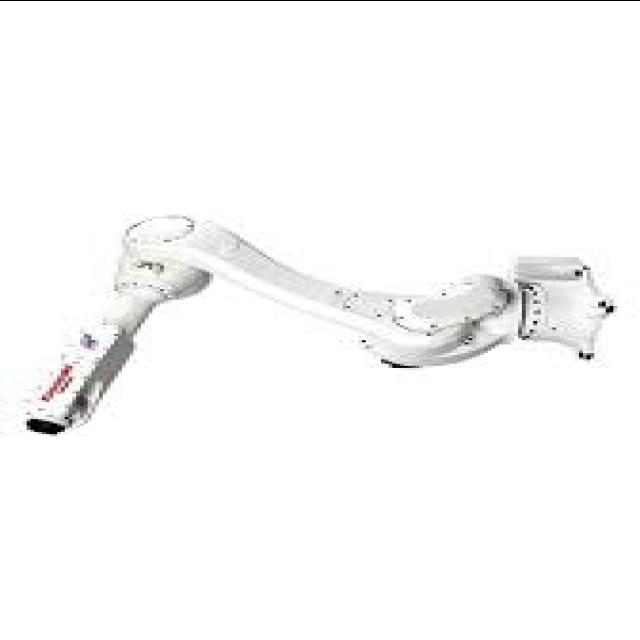Robotic-arm: (15, 200, 622, 441)
